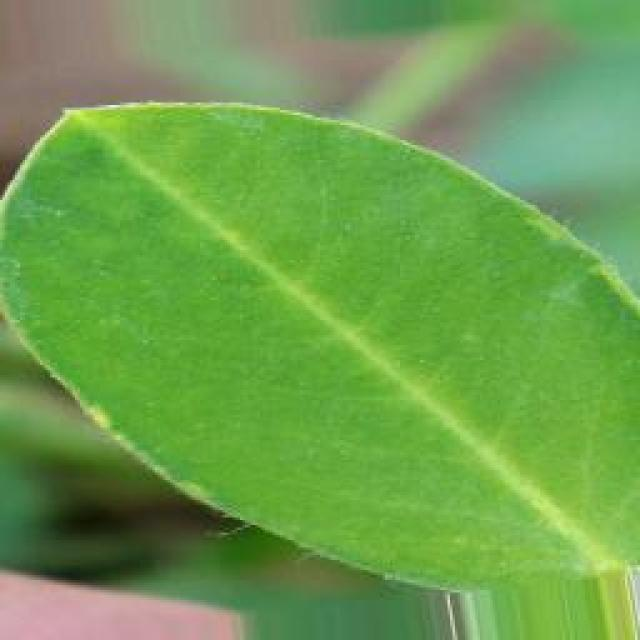Yellow_and_black_sigatoka: (0, 89, 640, 596)
